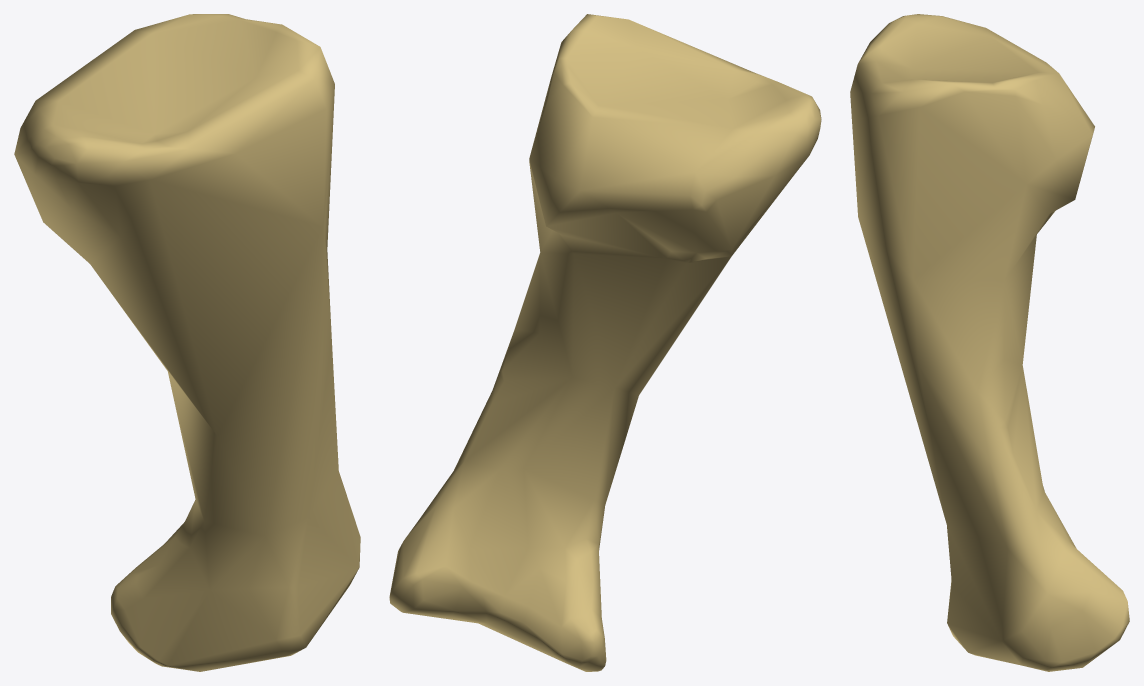
3 views of the same model, side by side, from view 1: azimuth 30°, elevation 25°; view 2: azimuth 150°, elevation 25°; view 3: azimuth 270°, elevation 25° (orthographic). The views are drawn at different scales.
Parts seen in each view (by area): view 1: 左侧第二趾近节趾骨; view 2: 左侧第二趾近节趾骨; view 3: 左侧第二趾近节趾骨.
Part boxes in pixels (<box>): 左侧第二趾近节趾骨: <box>14,14,360,671</box>; 左侧第二趾近节趾骨: <box>389,14,821,671</box>; 左侧第二趾近节趾骨: <box>850,14,1129,671</box>.
Size of the model in its own units: 0.0263 by 0.0433 by 0.0191.
